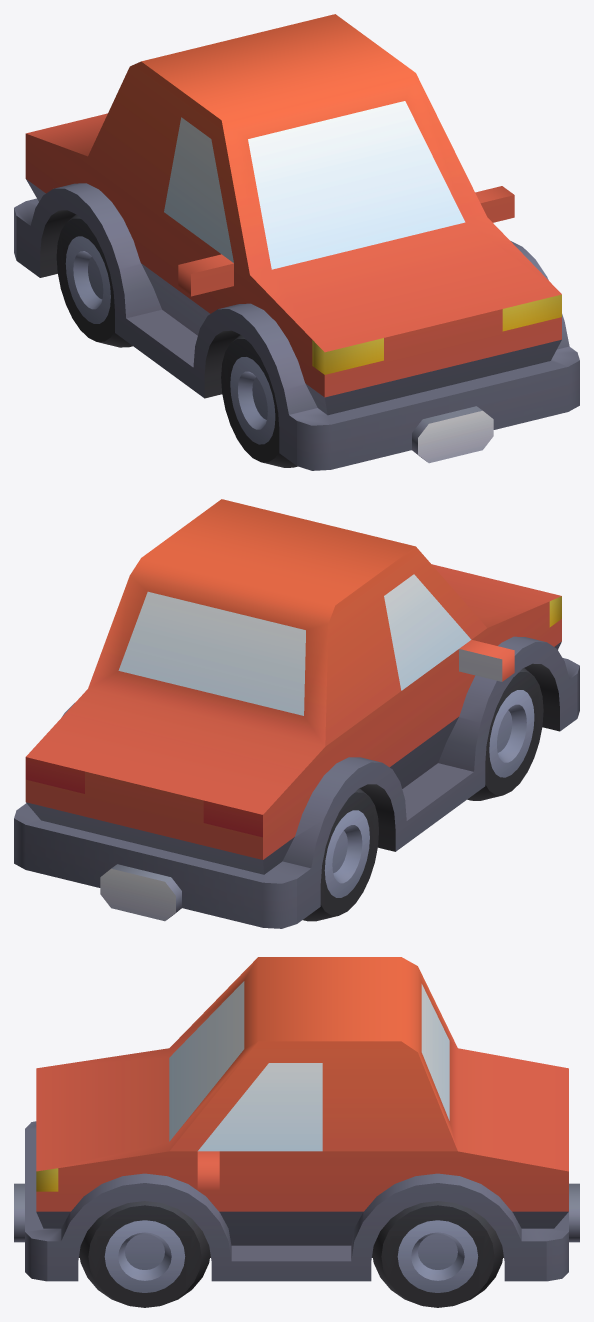
The model's file is bil.glb.
The picture shows the model from 3 angles, top to bottom: view 1: azimuth 30°, elevation 25°; view 2: azimuth 150°, elevation 25°; view 3: azimuth 270°, elevation 25°; orthographic projection. The views are drawn at different scales.
Parts seen in each view (by area): view 1: body, wheel-front-right, wheel-back-right; view 2: body, wheel-back-right, wheel-front-right; view 3: body, wheel-back-left, wheel-front-left.
Boxes of the visible parts, left/top/right/bottom form: body: left=14, top=14, right=579, bottom=470; wheel-front-right: left=221, top=335, right=297, bottom=467; wheel-back-right: left=56, top=214, right=132, bottom=347; body: left=14, top=499, right=579, bottom=928; wheel-back-right: left=303, top=788, right=378, bottom=921; wheel-front-right: left=467, top=668, right=543, bottom=800; body: left=14, top=957, right=579, bottom=1281; wheel-back-left: left=372, top=1201, right=503, bottom=1307; wheel-front-left: left=79, top=1201, right=210, bottom=1307.
Size of the model in its own units: 1.5 by 1.3 by 2.55.
1 material, 1 textured.
